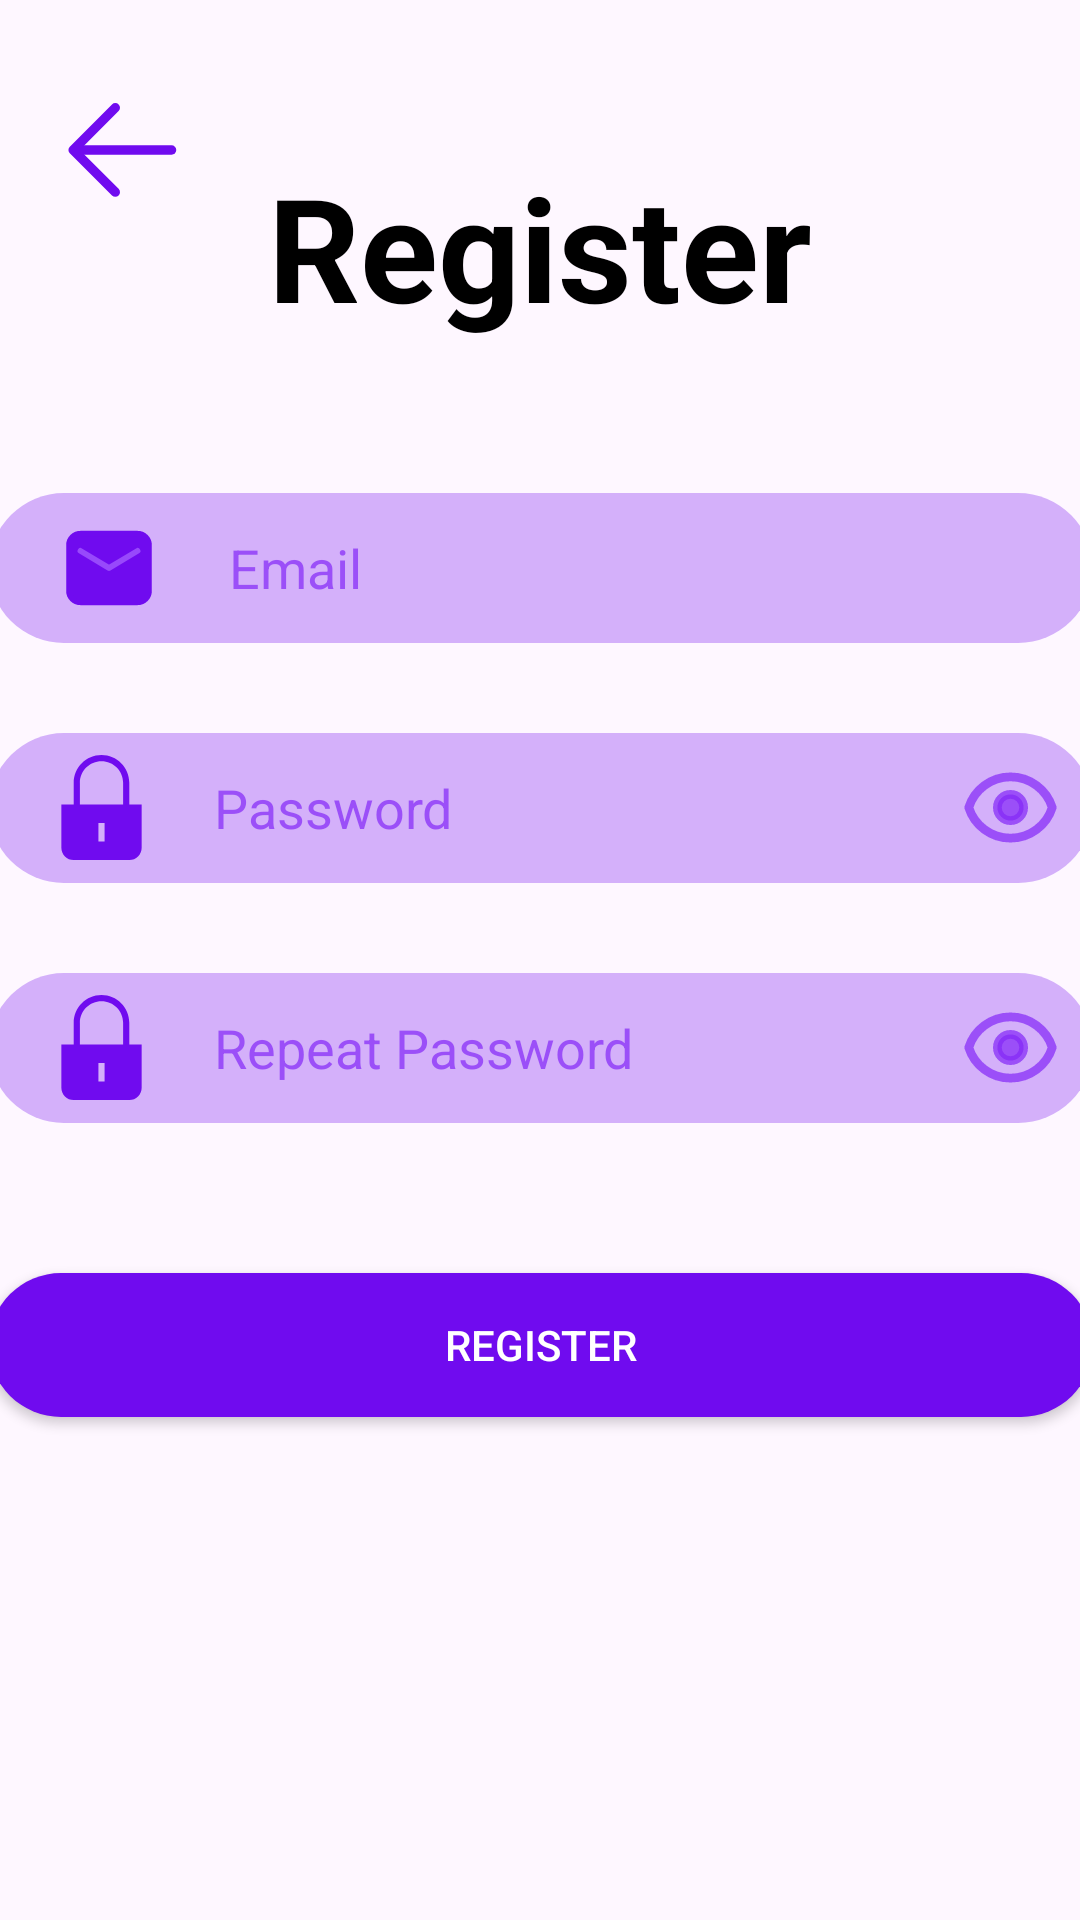

Screen size 1080×1920. Icon name, then its box in pixels as bbox(x1, y1, x2, y2):
back: bbox(68, 103, 177, 197)
